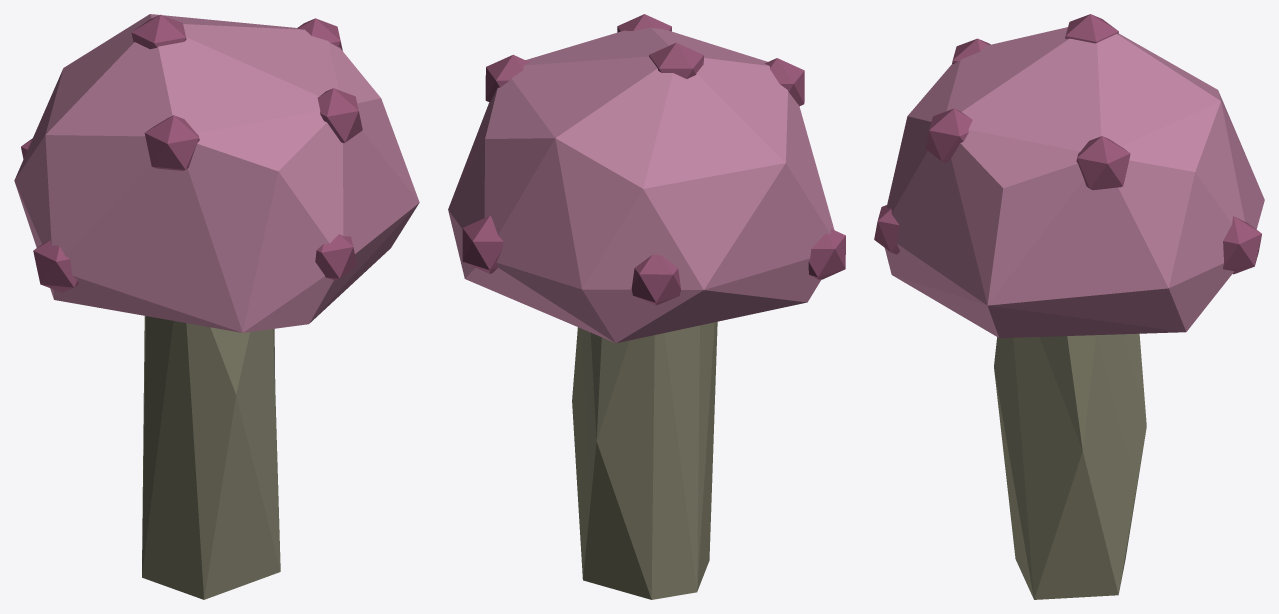
The model's file is shroom1-8.fbx.
The picture shows the model from 3 angles, left to right: view 1: azimuth 30°, elevation 25°; view 2: azimuth 150°, elevation 25°; view 3: azimuth 270°, elevation 25°; orthographic projection. The views are drawn at different scales.
Parts seen in each view (by area): view 1: Mushroom_01_LOD0; view 2: Mushroom_01_LOD0; view 3: Mushroom_01_LOD0.
Boxes of the visible parts, x1=… form: Mushroom_01_LOD0: x1=14, y1=14, x2=419, y2=599; Mushroom_01_LOD0: x1=448, y1=14, x2=845, y2=599; Mushroom_01_LOD0: x1=874, y1=14, x2=1264, y2=599.
Size of the model in its own units: 22.52 by 34.07 by 22.22.
